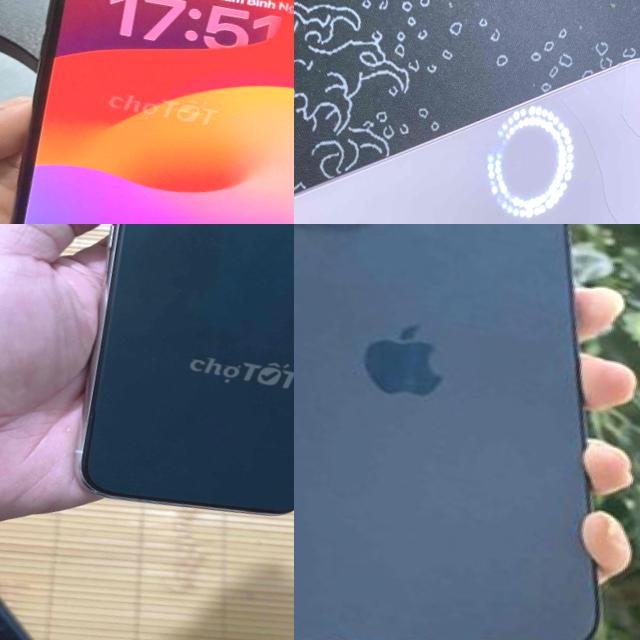physical_damage: (509, 49, 640, 224)
